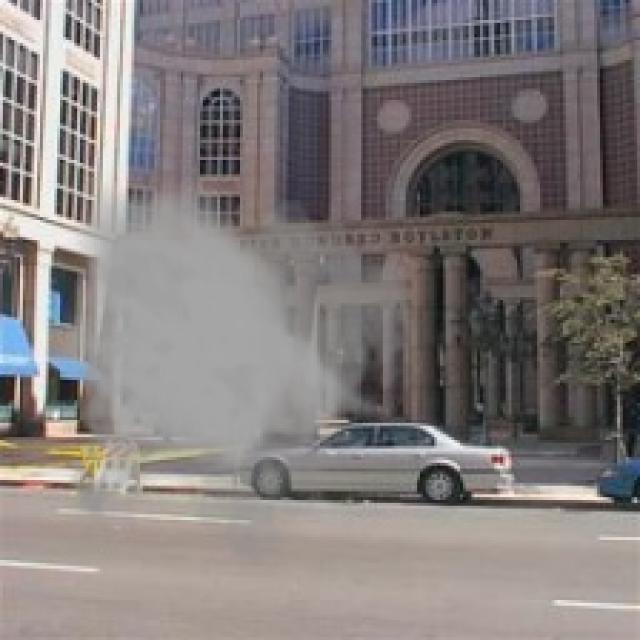smoke: (57, 165, 414, 566)
